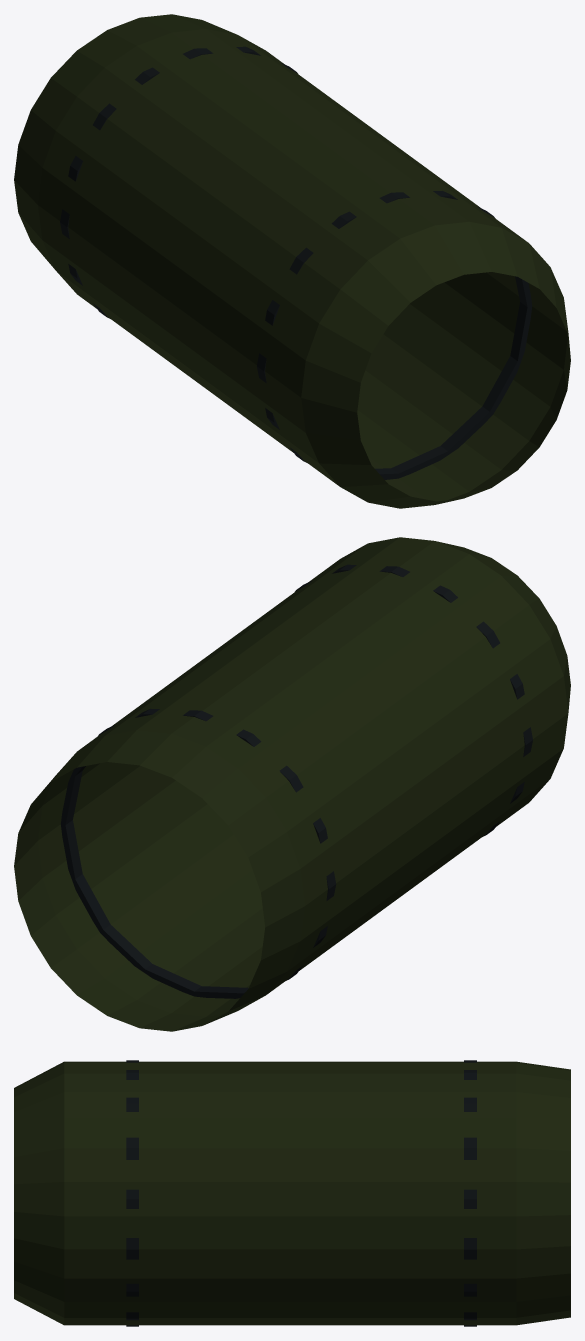
The model's file is Rocket70Seven__PodShell.obj.
3 renders of one model, top to bottom at view 1: azimuth 30°, elevation 25°; view 2: azimuth 150°, elevation 25°; view 3: azimuth 270°, elevation 25°, orthographic. The views are drawn at different scales.
Parts seen in each view (by area): view 1: Pod_aerodynamic_outer_shell, Identification_band, Identification_band.001; view 2: Pod_aerodynamic_outer_shell, Identification_band.001, Identification_band; view 3: Pod_aerodynamic_outer_shell, Identification_band, Identification_band.001.
Part boxes in pixels (x1,y1,x2,y2): Pod_aerodynamic_outer_shell: (14, 14, 570, 508); Identification_band: (257, 191, 532, 479); Identification_band.001: (60, 46, 297, 318); Pod_aerodynamic_outer_shell: (14, 537, 570, 1031); Identification_band.001: (60, 708, 336, 998); Identification_band: (295, 564, 532, 836); Pod_aerodynamic_outer_shell: (14, 1061, 570, 1325); Identification_band: (126, 1060, 138, 1326); Identification_band.001: (464, 1060, 476, 1326).
Size of the model in its own units: 0.5835 by 0.5835 by 1.22.
